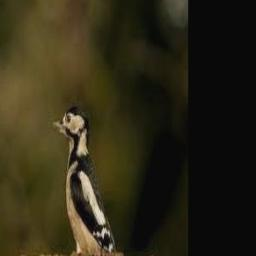Woodpecker: (51, 107, 116, 254)
